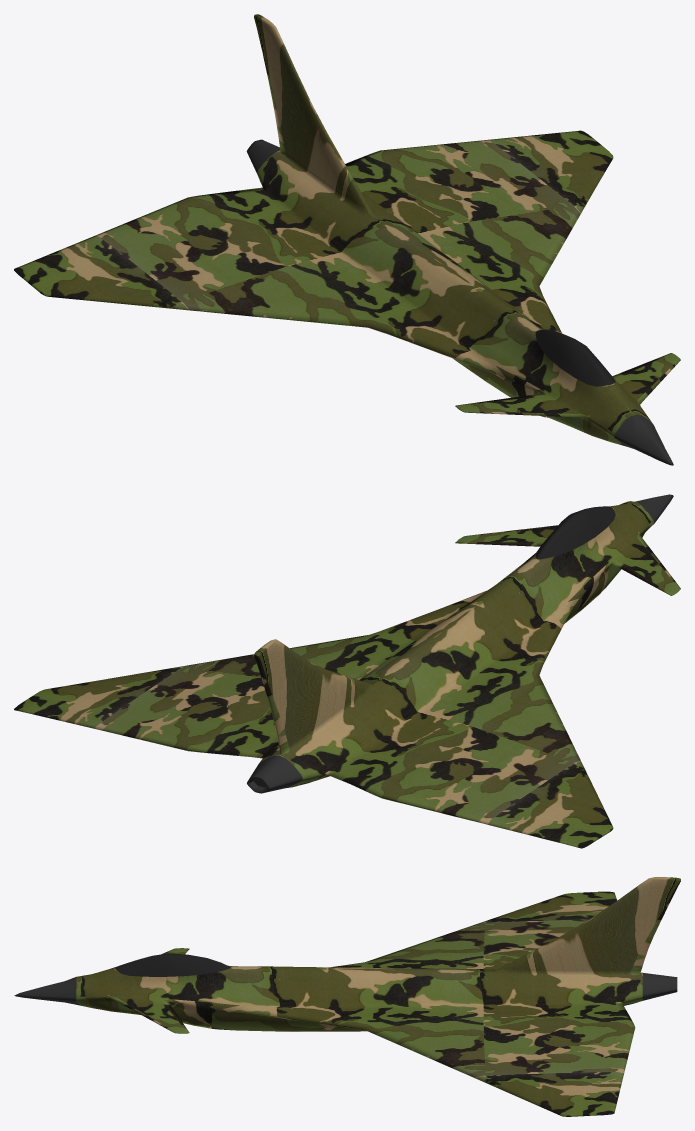
Rendered from eurofighter4.fbx.
3 views of the same model, one above another, from view 1: azimuth 30°, elevation 25°; view 2: azimuth 150°, elevation 25°; view 3: azimuth 270°, elevation 25° (orthographic). The views are drawn at different scales.
Parts seen in each view (by area): view 1: Cube, Cube_001, Cube_002; view 2: Cube, Cube_001, Cube_003; view 3: Cube, Cube_001, Cube_002, Cube_003.
Part boxes in pixels (x1,y1,x2,y2): Cube: (14,14,680,446); Cube_001: (535,329,615,386); Cube_002: (614,414,673,465); Cube: (14,501,680,848); Cube_001: (535,506,615,559); Cube_003: (247,755,302,793); Cube: (76,877,680,1116); Cube_001: (115,953,230,976); Cube_002: (14,977,76,1004); Cube_003: (642,973,677,1000).
Size of the model in its own units: 24.52 by 7.76 by 31.06.
Materials: 3 (1 with a texture image).
